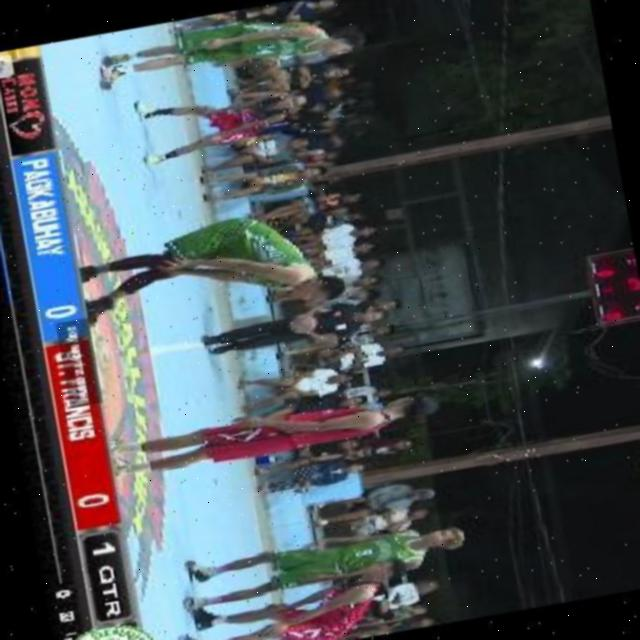ball: (278, 306, 321, 338)
